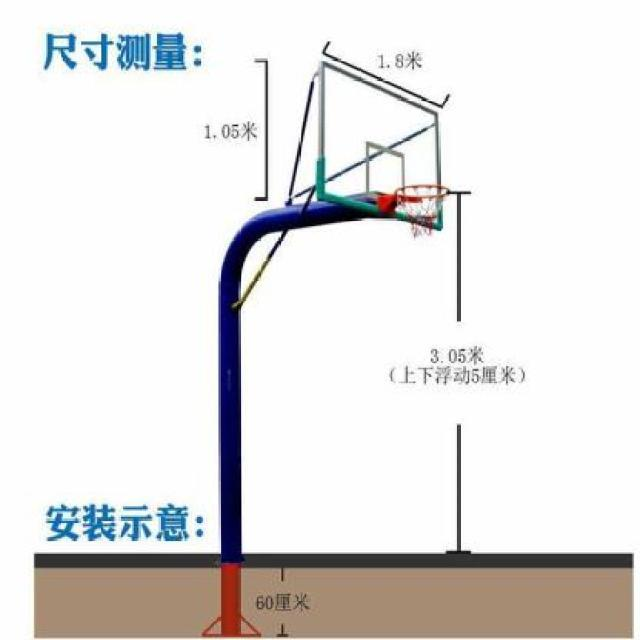rim: (394, 182, 450, 236)
